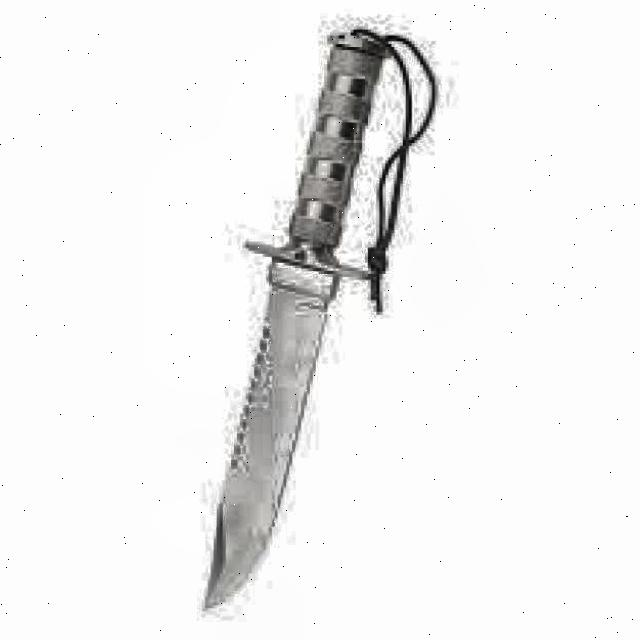knife: (191, 29, 395, 603)
